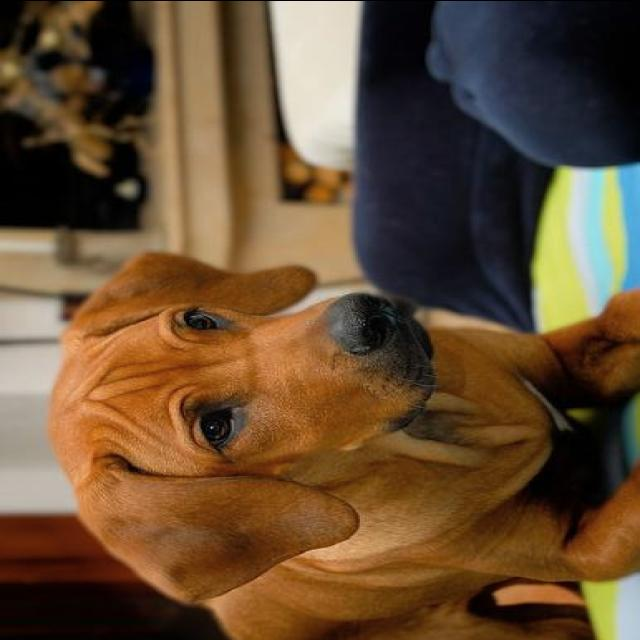rhodesian_ridgeback: (38, 243, 638, 638)
